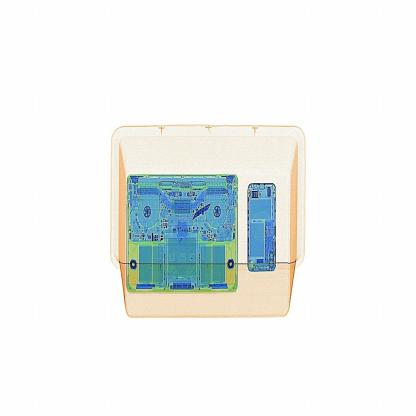pliers: (190, 198, 218, 228)
